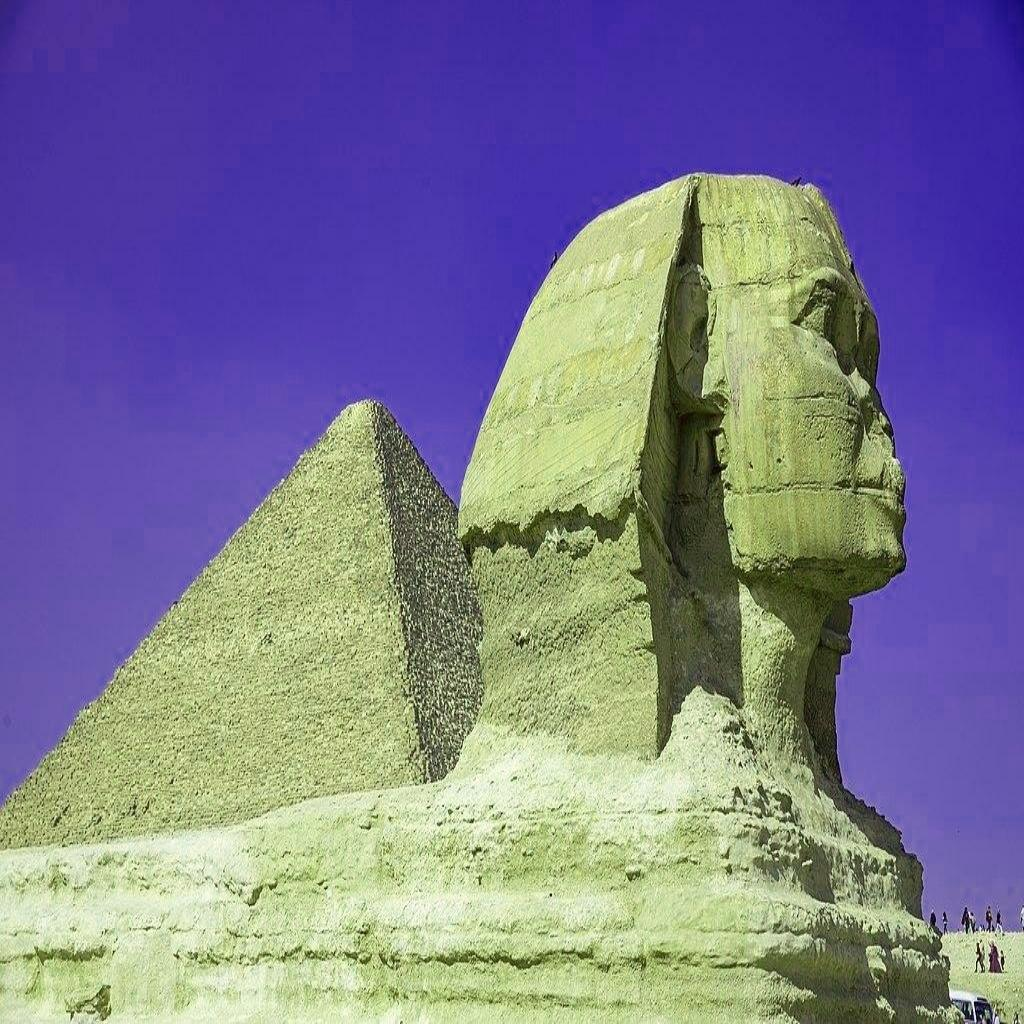Sphinx: (1, 168, 965, 1020), (452, 168, 911, 795)
